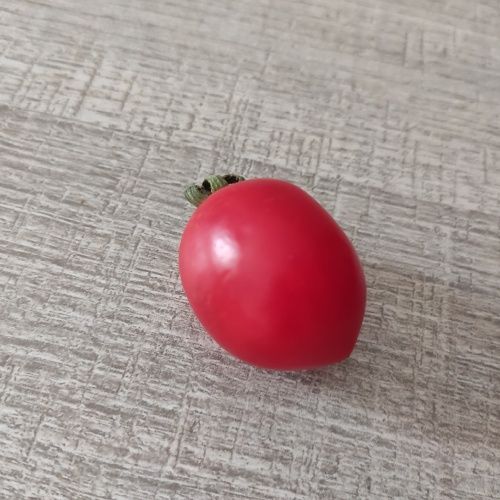pomodoro: (175, 169, 371, 385)
